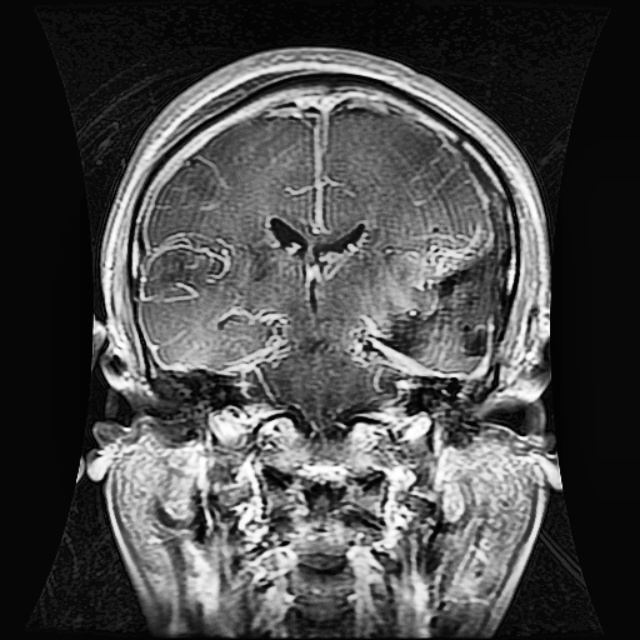Meningioma: (377, 229, 507, 374)
